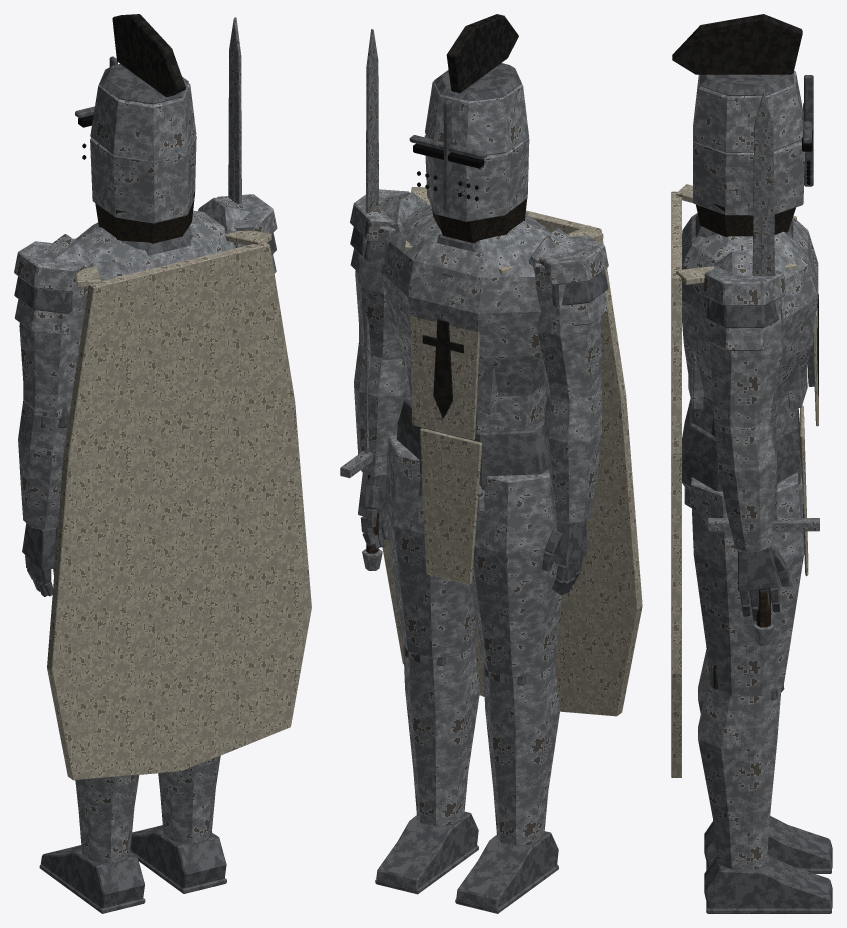
Rendered from komtur.glb.
3 renders of one model, left to right at view 1: azimuth 30°, elevation 25°; view 2: azimuth 150°, elevation 25°; view 3: azimuth 270°, elevation 25°, orthographic. The views are drawn at different scales.
Visible parts, largest first — view 1: tors, glowa, ramie_l, przedramie_l, golen_l, stopa_l, stopa_p, golen_p, ramie_p, bron, dlon_l; view 2: tors, glowa, udo_l, miednica, ramie_l, udo_p, golen_l, golen_p, ramie_p, przedramie_l, stopa_l, stopa_p (+4 smaller); view 3: glowa, tors, udo_p, golen_p, ramie_p, przedramie_p, bron, stopa_p, miednica, stopa_l, dlon_p, golen_l.
Part boxes in pixels (x1,y1,x2,y2): tors: (47, 211, 311, 780); glowa: (75, 14, 196, 243); ramie_l: (14, 234, 94, 428); przedramie_l: (18, 400, 67, 530); golen_l: (75, 775, 139, 864); stopa_l: (39, 845, 145, 913); stopa_p: (130, 825, 226, 893); golen_p: (158, 755, 220, 844); ramie_p: (198, 194, 277, 273); bron: (228, 17, 241, 204); dlon_l: (22, 523, 56, 596); tors: (381, 187, 642, 716); glowa: (409, 14, 529, 242); udo_l: (470, 470, 561, 685); miednica: (396, 395, 548, 584); ramie_l: (529, 228, 608, 402); udo_p: (384, 434, 476, 665); golen_l: (483, 663, 559, 846); golen_p: (403, 644, 479, 826); ramie_p: (350, 189, 427, 361); przedramie_l: (544, 391, 601, 523); stopa_l: (455, 831, 558, 913); stopa_p: (375, 811, 478, 894); glowa: (672, 14, 813, 236); tors: (671, 184, 818, 777); udo_p: (691, 472, 804, 700); golen_p: (698, 677, 781, 870); ramie_p: (703, 251, 785, 444); przedramie_p: (715, 422, 776, 552); bron: (707, 91, 819, 645); stopa_p: (704, 854, 832, 913); miednica: (682, 399, 808, 576); stopa_l: (704, 816, 832, 873); dlon_p: (738, 547, 789, 620); golen_l: (698, 649, 709, 713).
Size of the model in its own units: 0.62 by 1.97 by 0.3313.
8 materials, 8 textured.
